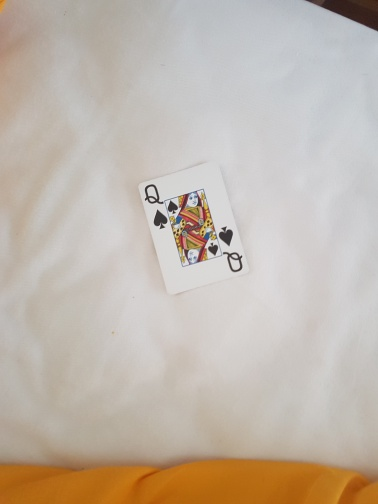queen: (137, 161, 248, 295)
